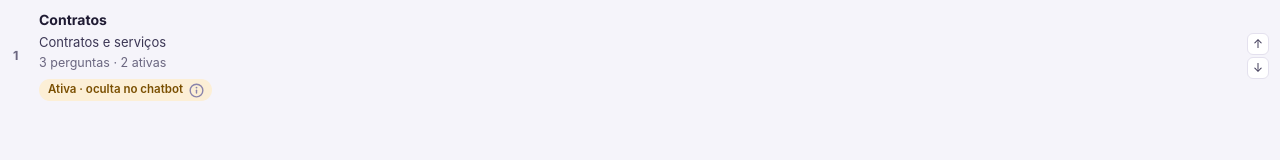
it: ContentCategoryList › categoria oculta mostra o estado com a dica do ícone de informação
Expected: the text "Ativa · oculta no chatbot" is shown, [39,80,212,101]
Hover over the button named "Mais informações" at (196, 90), box [187,83,206,98]
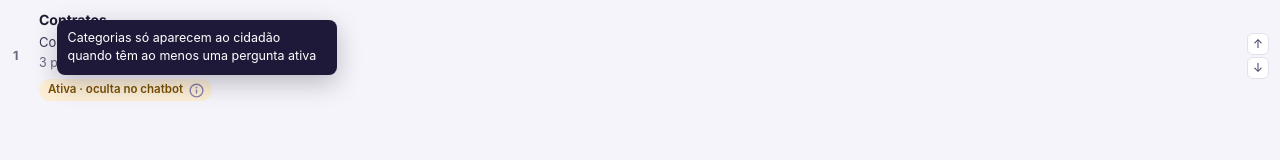
Expected: the tooltip reads "Categorias só aparecem ao cidadão quando têm ao menos uma pergunta ativa", [68,30,316,64]
